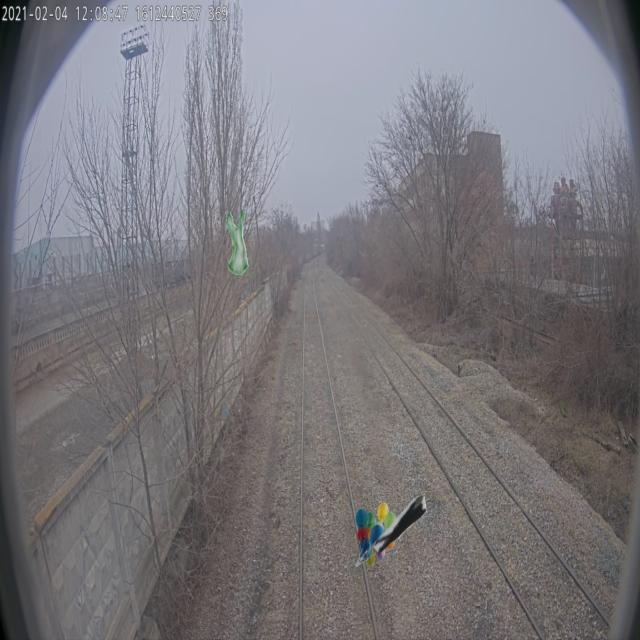balloon: (356, 502, 397, 566)
floating object: (372, 490, 430, 554)
plastic bag: (226, 211, 249, 275)
